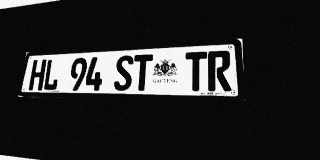4: (84, 57, 104, 91)
9: (68, 57, 88, 91)
H: (28, 59, 47, 90)
L: (42, 59, 61, 91)
R: (208, 50, 232, 91)
S: (113, 55, 134, 91)
T: (185, 51, 207, 91), (132, 54, 153, 91)
